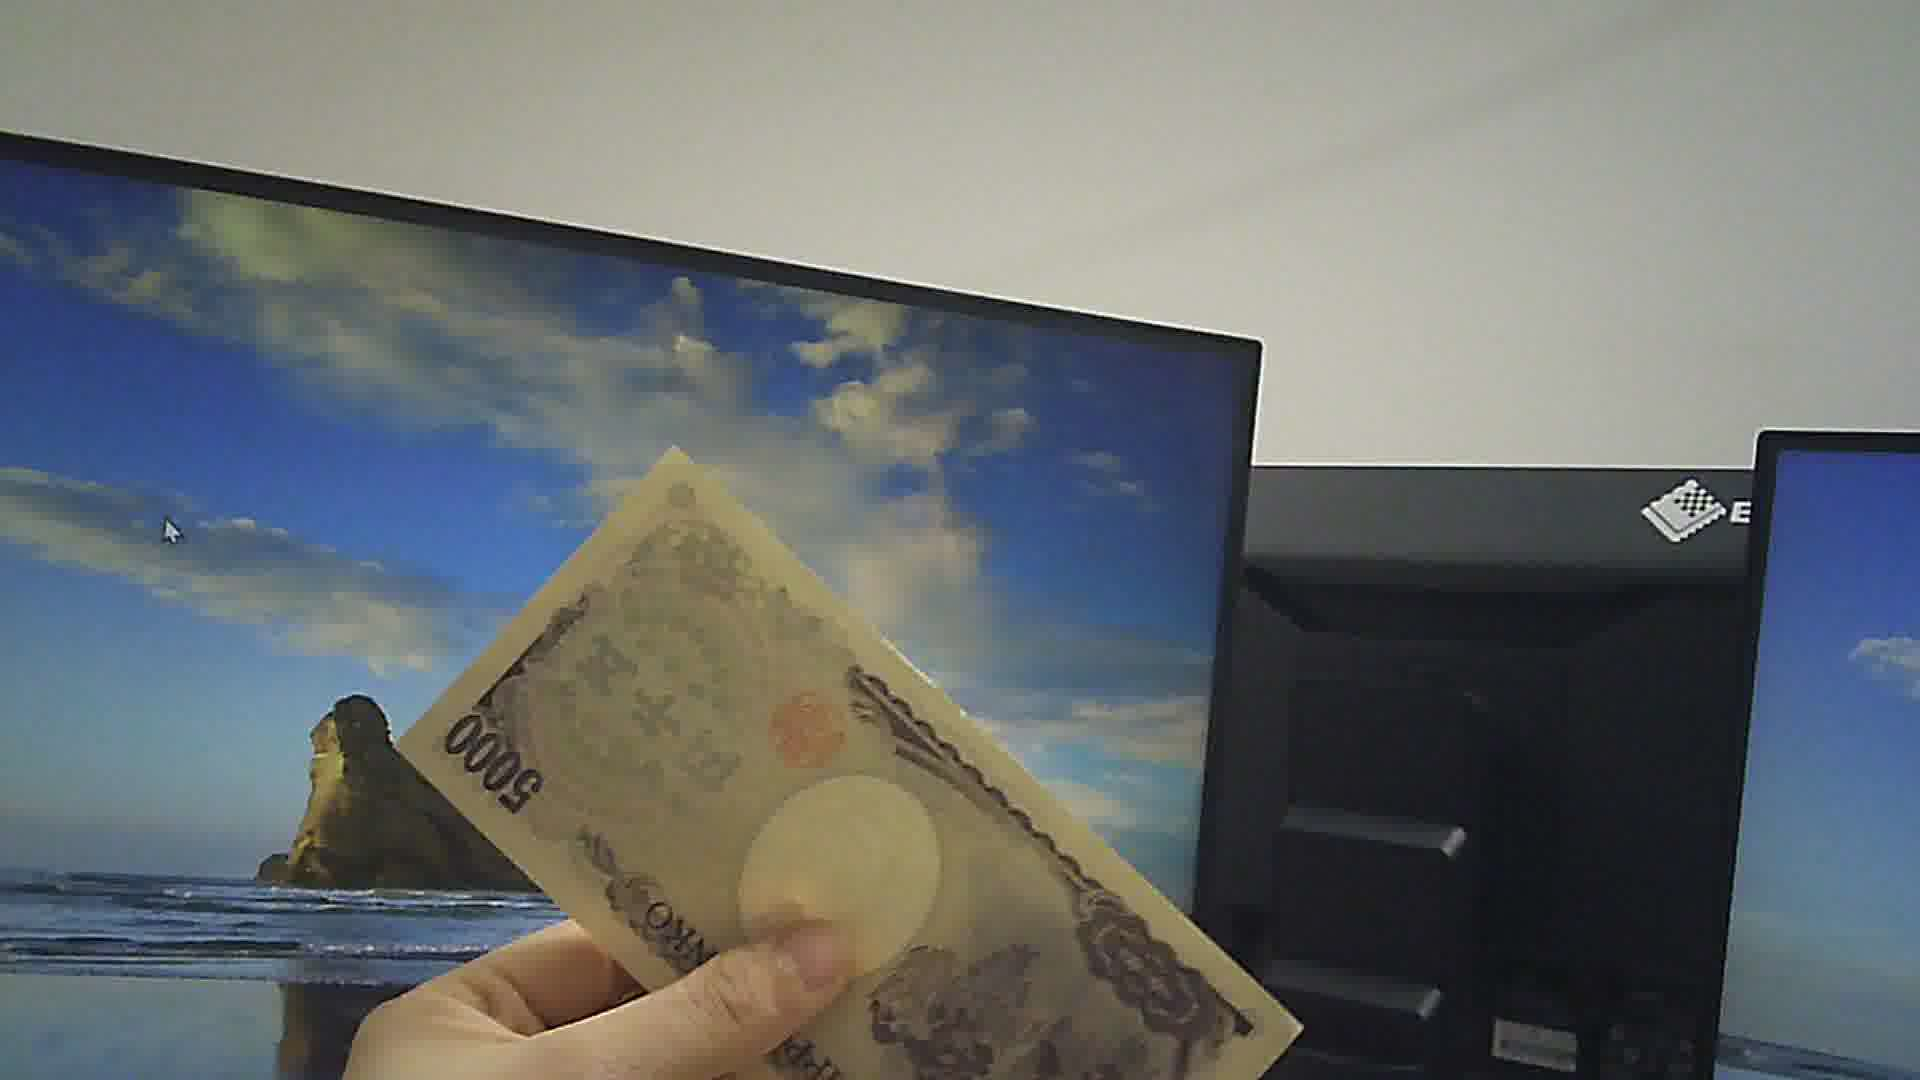5,000 Yen: (375, 465, 1357, 1077)
